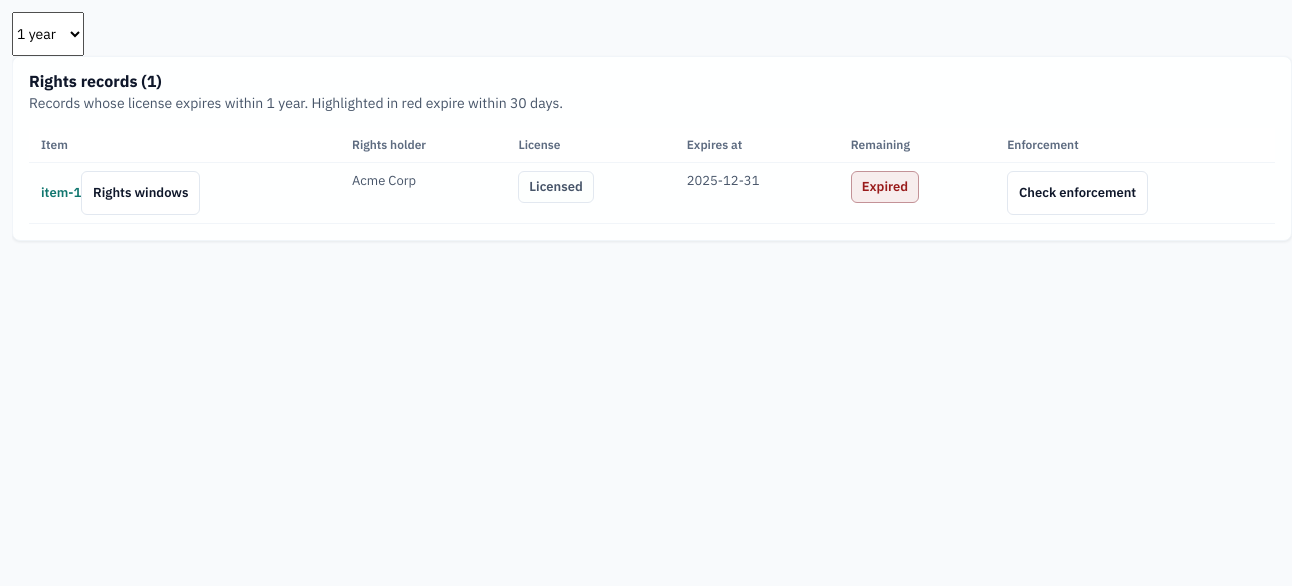
Test case: rights enforcement decisions › renders empty territories and platforms as unrestricted, not restricted
Check: the link "item-1" is shown, box [41, 183, 81, 202]
Click the button "Rights windows".
click(141, 193)  # box [81, 171, 200, 215]
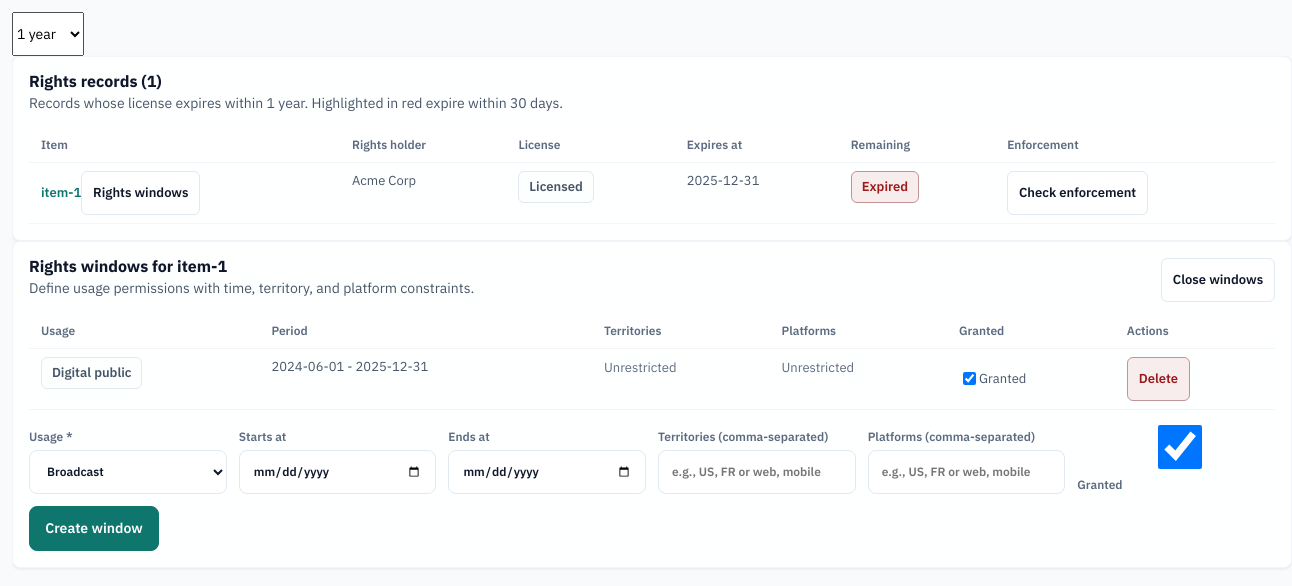
Check: the heading "Rights windows for item-1" is shown, box [29, 255, 227, 279]
Check: the 1st text "Unrestricted" is shown, box [604, 358, 677, 377]
